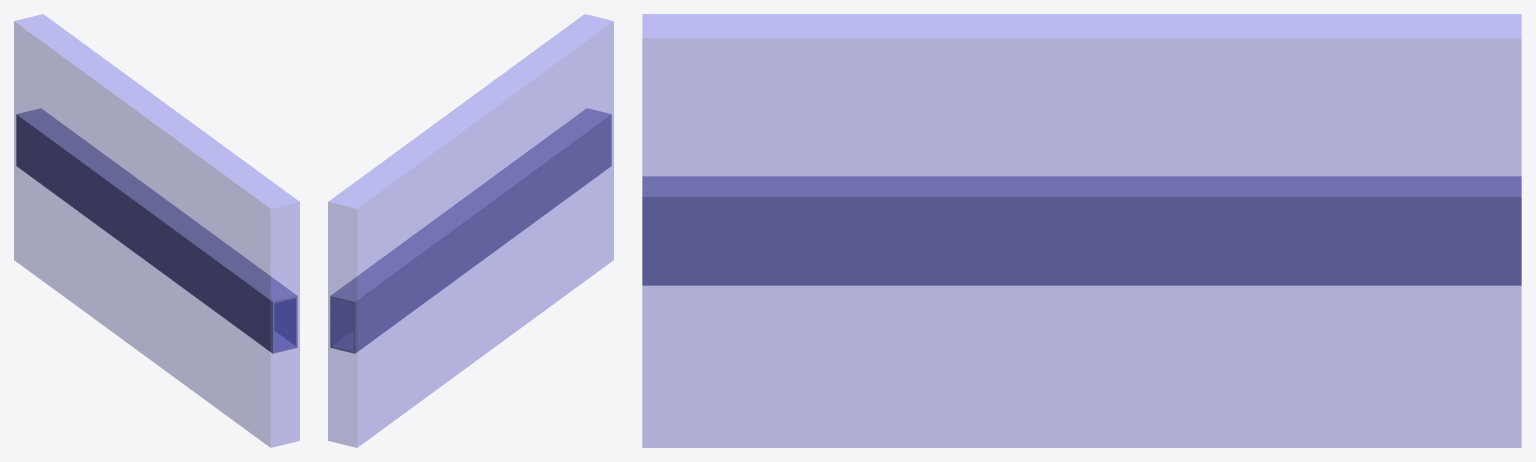
The model's file is DumpMagnetField.gltf.
3 renders of one model, left to right at view 1: azimuth 30°, elevation 25°; view 2: azimuth 150°, elevation 25°; view 3: azimuth 270°, elevation 25°, orthographic. The views are drawn at different scales.
Visible parts, largest first — view 1: DumpMagnetField0x2221e50, DMBPipe0x22189e0, DMBPipeContainer0x2218b60; view 2: DumpMagnetField0x2221e50, DMBPipe0x22189e0, DMBPipeContainer0x2218b60; view 3: DumpMagnetField0x2221e50, DMBPipe0x22189e0.
Boxes of the visible parts, <box> form: DumpMagnetField0x2221e50: <box>14,14,299,447</box>; DMBPipe0x22189e0: <box>16,108,297,353</box>; DMBPipeContainer0x2218b60: <box>273,297,297,351</box>; DumpMagnetField0x2221e50: <box>328,14,613,447</box>; DMBPipe0x22189e0: <box>330,108,611,353</box>; DMBPipeContainer0x2218b60: <box>330,297,353,351</box>; DumpMagnetField0x2221e50: <box>642,14,1521,447</box>; DMBPipe0x22189e0: <box>642,176,1521,285</box>.
Bounding box in the file's own units: 5.99 × 47 × 91.44.
